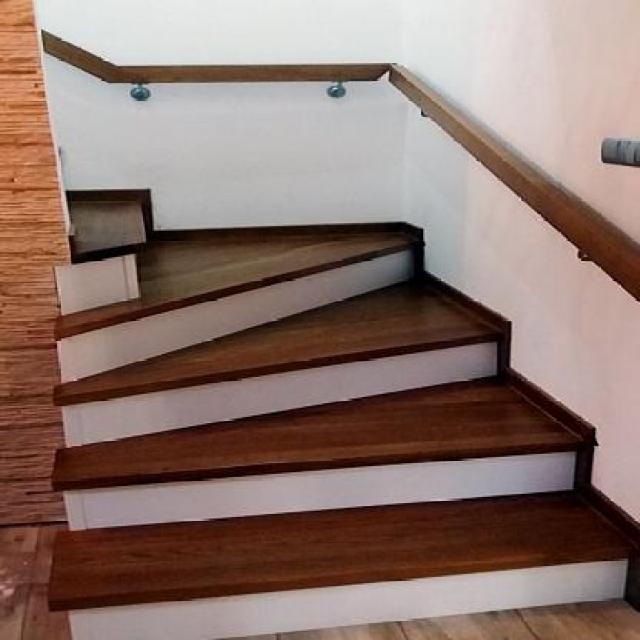stair: (1, 103, 634, 640)
